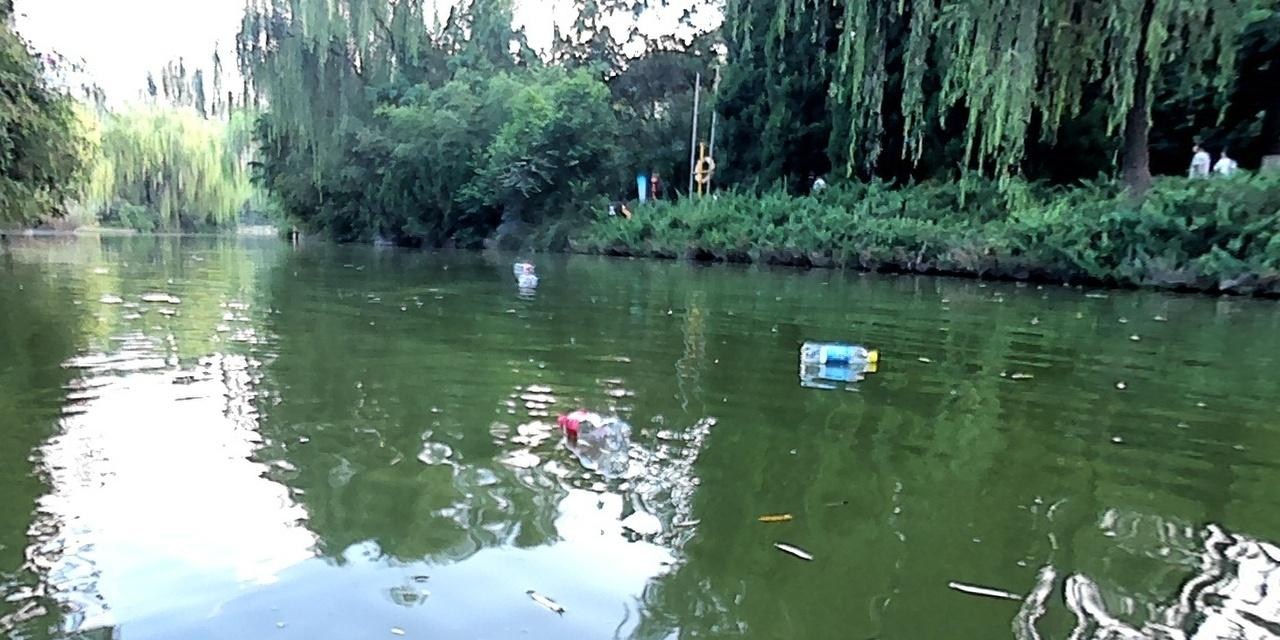bottle: (554, 406, 629, 450), (800, 341, 877, 365), (516, 260, 533, 273), (518, 273, 536, 285)
